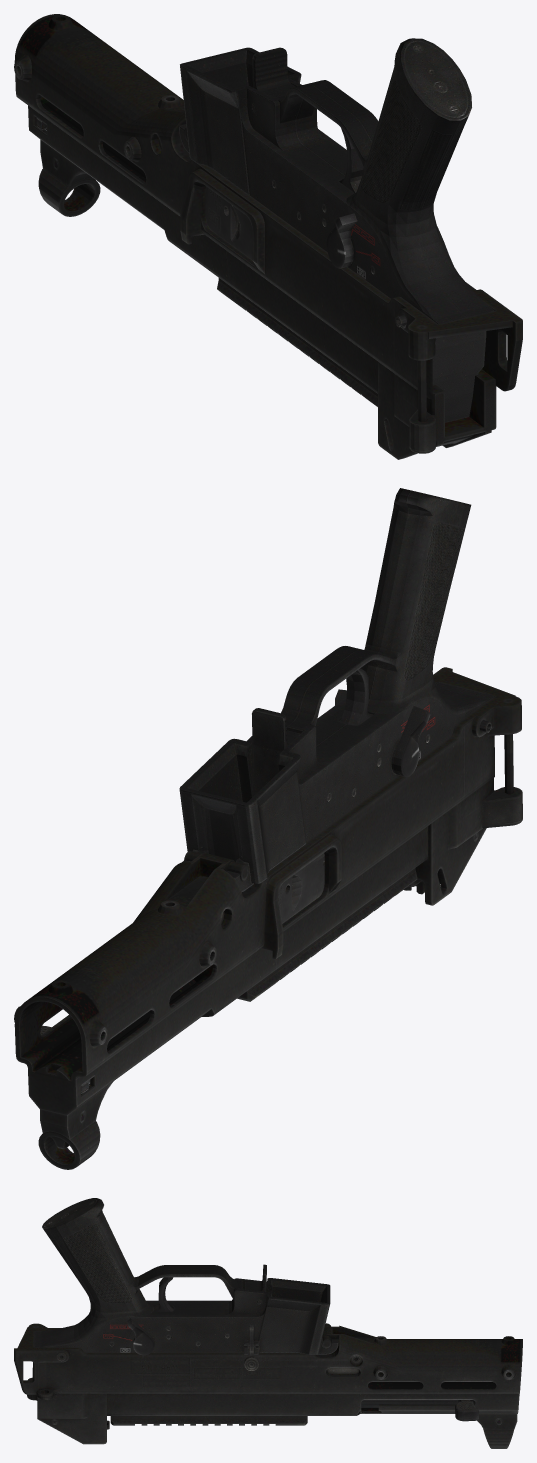
3 renders of one model, top to bottom at view 1: azimuth 30°, elevation 25°; view 2: azimuth 150°, elevation 25°; view 3: azimuth 270°, elevation 25°, orthographic. The views are drawn at different scales.
Parts seen in each view (by area): view 1: TW_5fc3e272f8b6a877a729eac5_PZ_Import; view 2: TW_5fc3e272f8b6a877a729eac5_PZ_Import; view 3: TW_5fc3e272f8b6a877a729eac5_PZ_Import.
Part boxes in pixels (x1,y1,x2,y2): TW_5fc3e272f8b6a877a729eac5_PZ_Import: [14, 14, 522, 459]; TW_5fc3e272f8b6a877a729eac5_PZ_Import: [14, 488, 522, 1169]; TW_5fc3e272f8b6a877a729eac5_PZ_Import: [14, 1198, 522, 1448].
Size of the model in its own units: 0.0405 by 0.2414 by 0.1297.
Materials: 1 (1 with a texture image).
